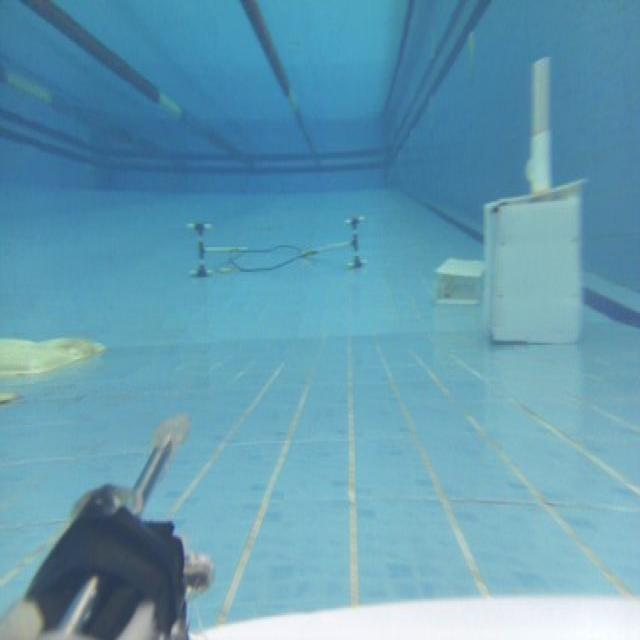Cube: (480, 176, 586, 347)
Cuboid: (432, 252, 486, 307)
